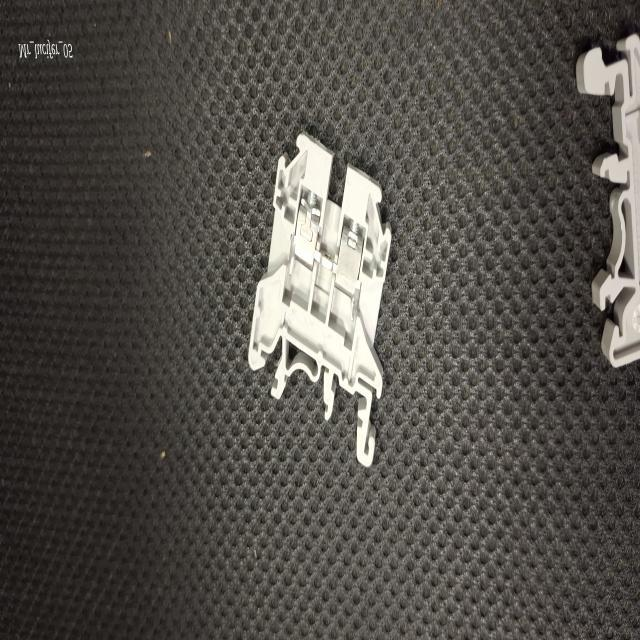Pass: (248, 130, 392, 469)
